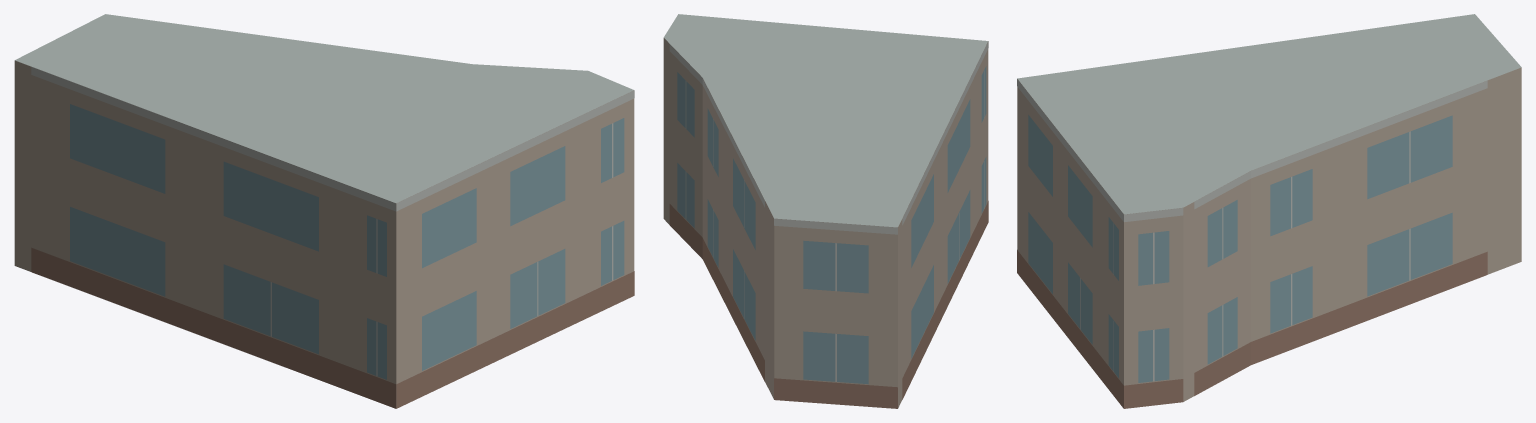
Rendered from survey-upis-32763970.glb.
The picture shows the model from 3 angles, left to right: view 1: azimuth 30°, elevation 25°; view 2: azimuth 150°, elevation 25°; view 3: azimuth 270°, elevation 25°; orthographic projection. The views are drawn at different scales.
Parts seen in each view (by area): view 1: survey-upis-32763970.tmp; view 2: survey-upis-32763970.tmp; view 3: survey-upis-32763970.tmp.
Part boxes in pixels (bbox=[...]): survey-upis-32763970.tmp: bbox=[14, 14, 634, 408]; survey-upis-32763970.tmp: bbox=[663, 14, 988, 408]; survey-upis-32763970.tmp: bbox=[1017, 14, 1521, 408].
Size of the model in its own units: 13.5 by 6.1 by 14.36.
